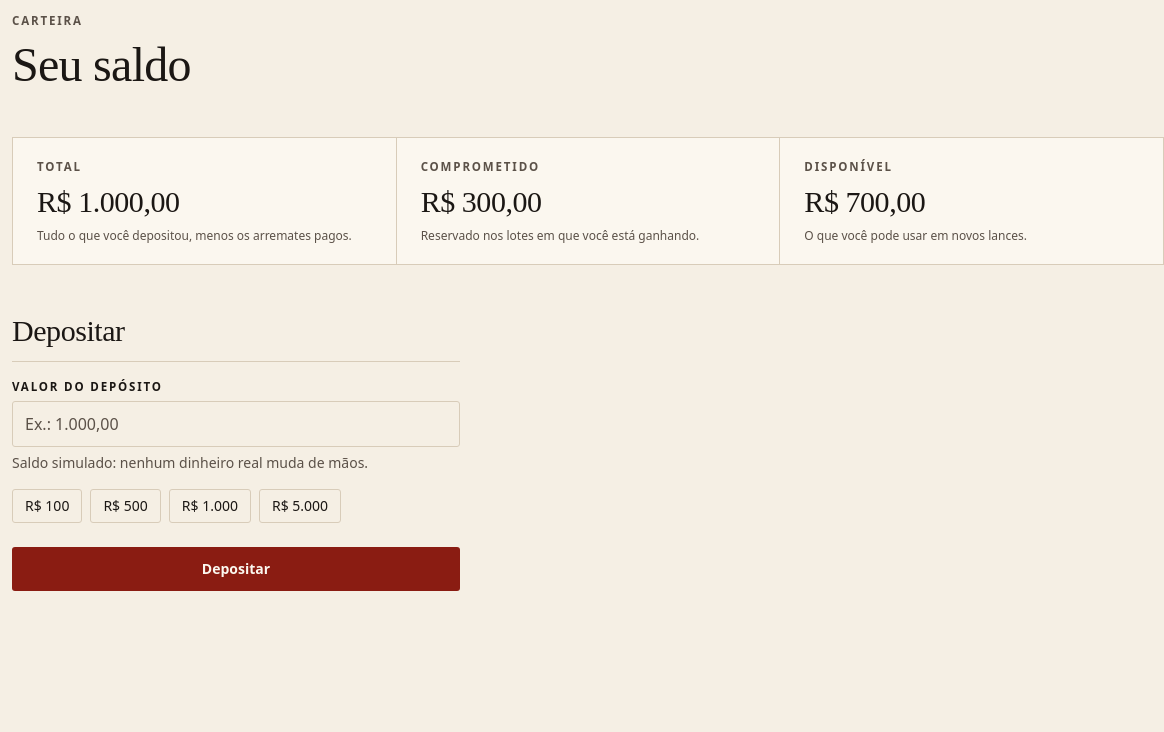
Scenario: WalletPanel › mostra total, comprometido e disponível, e deposita
Expected: the element named "Saldo" shows "R$ 1.000,00", x1=37 y1=184 x2=180 y2=218
Expected: the element named "Saldo" shows "R$ 300,00", x1=421 y1=184 x2=542 y2=218
Type "250,50" into the field labelled "Valor do depósito".
click(236, 424); type("250,50")  # box x1=12 y1=401 x2=460 y2=447
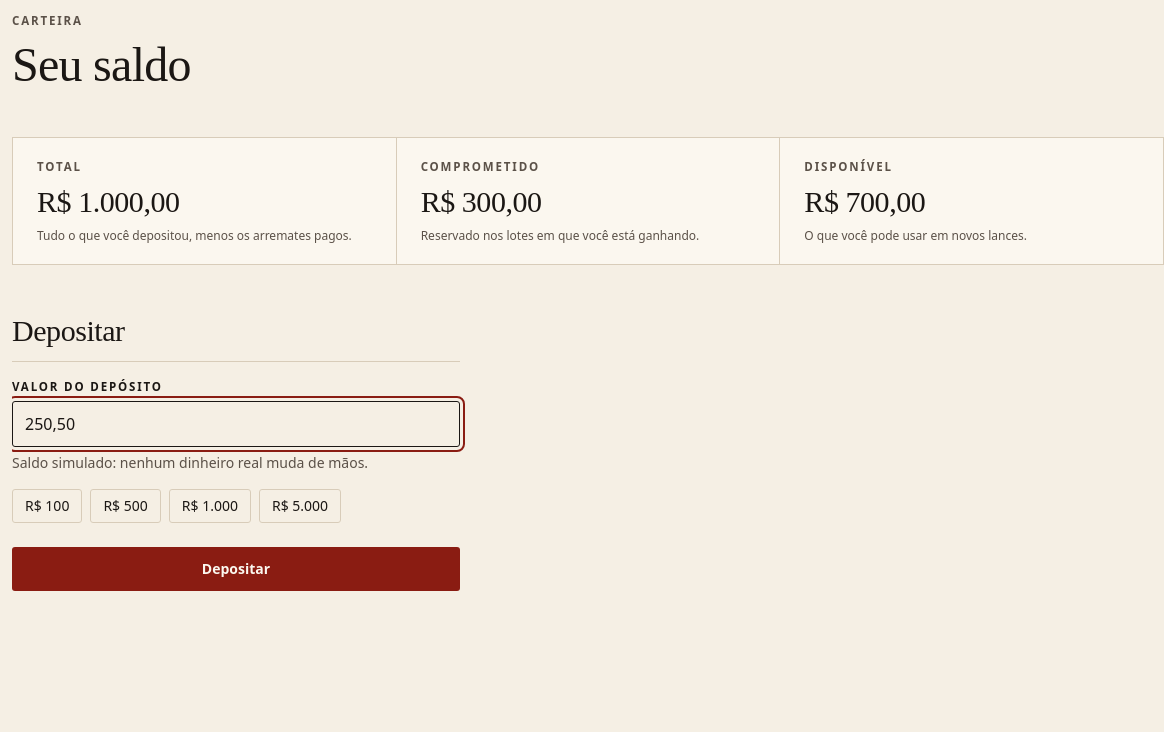
Click the button "Depositar".
click(236, 569)  # box x1=12 y1=547 x2=460 y2=591
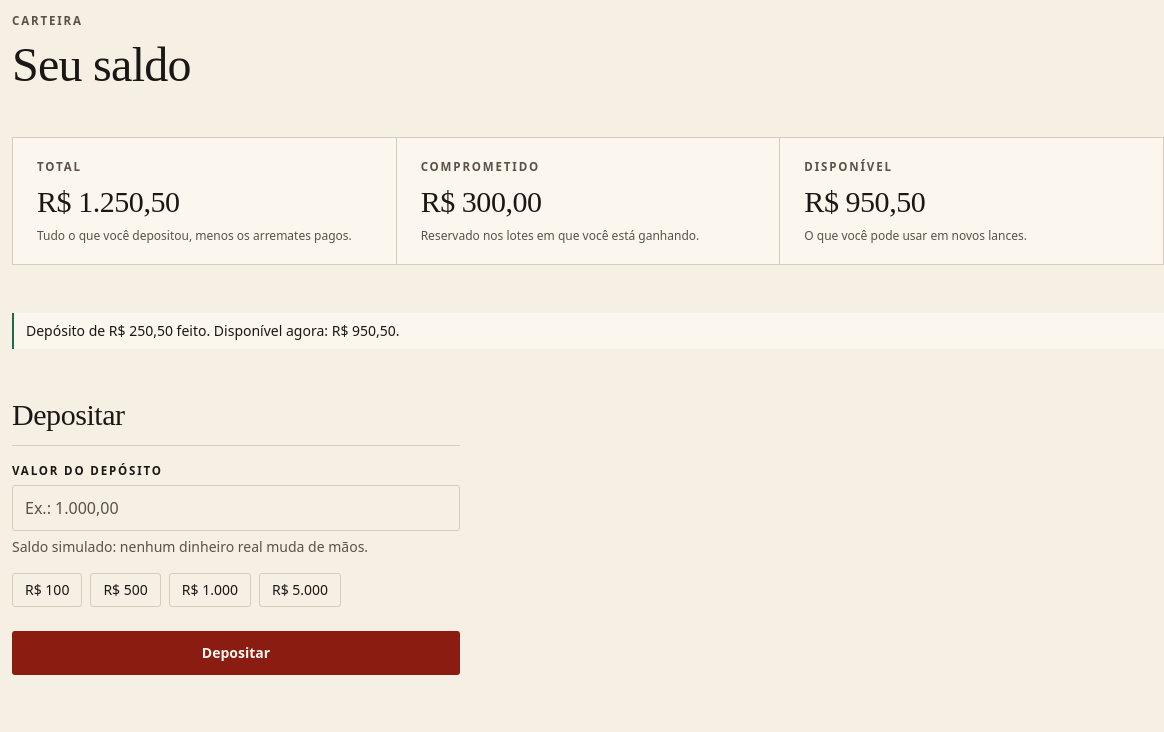
Result: the text "R$ 950,50" is shown at x1=804 y1=184 x2=925 y2=218
Result: the message shows "Depósito de R$ 250,50 feito" at x1=26 y1=320 x2=400 y2=340
